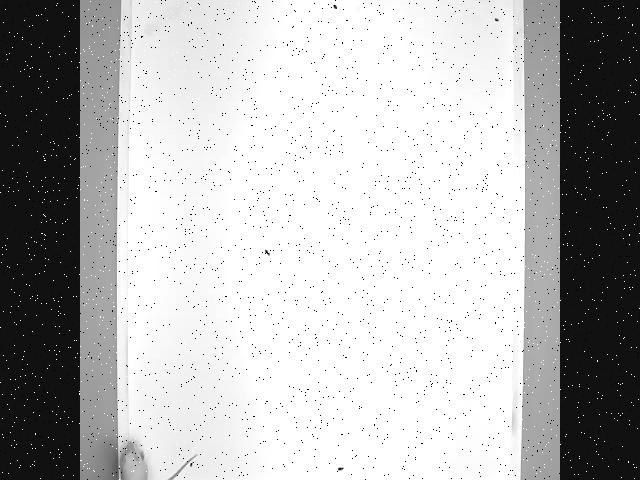Tikus: (114, 431, 200, 480)
